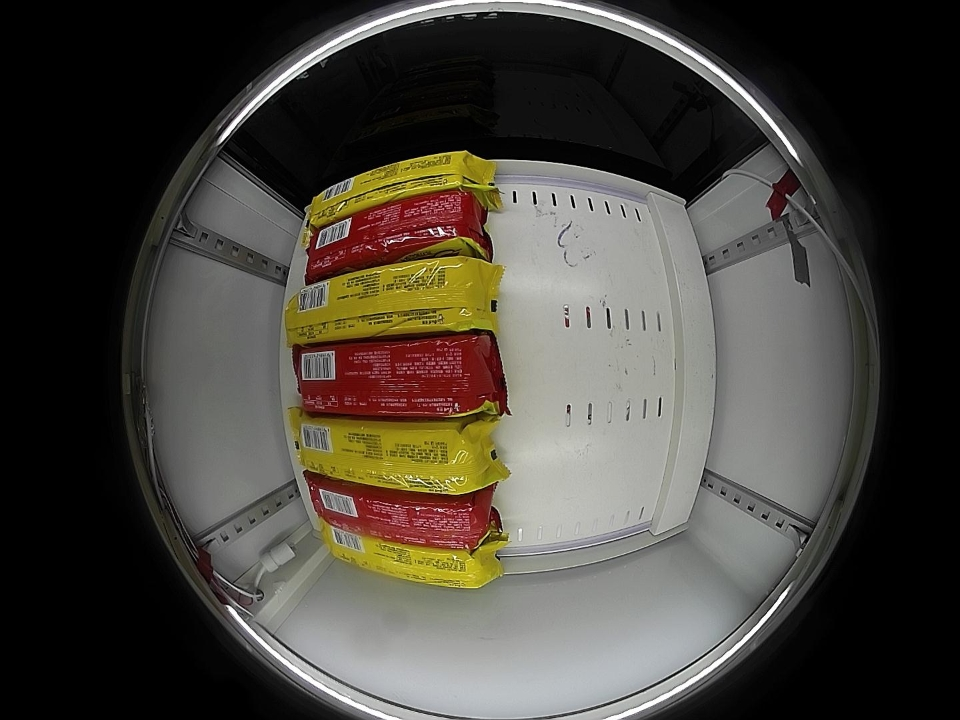3+2-2: (289, 260, 485, 344), (301, 416, 488, 493), (311, 149, 482, 221), (323, 529, 498, 589)
3jia2: (298, 337, 496, 416), (310, 190, 482, 273), (309, 483, 490, 547)
